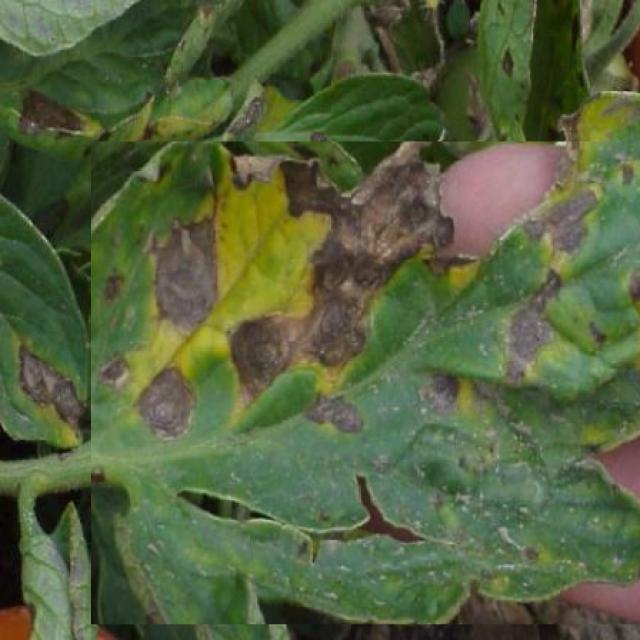Early Blight: (90, 142, 640, 625)
